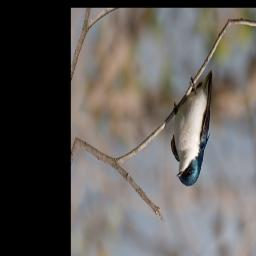Swallow: (160, 61, 232, 194)
